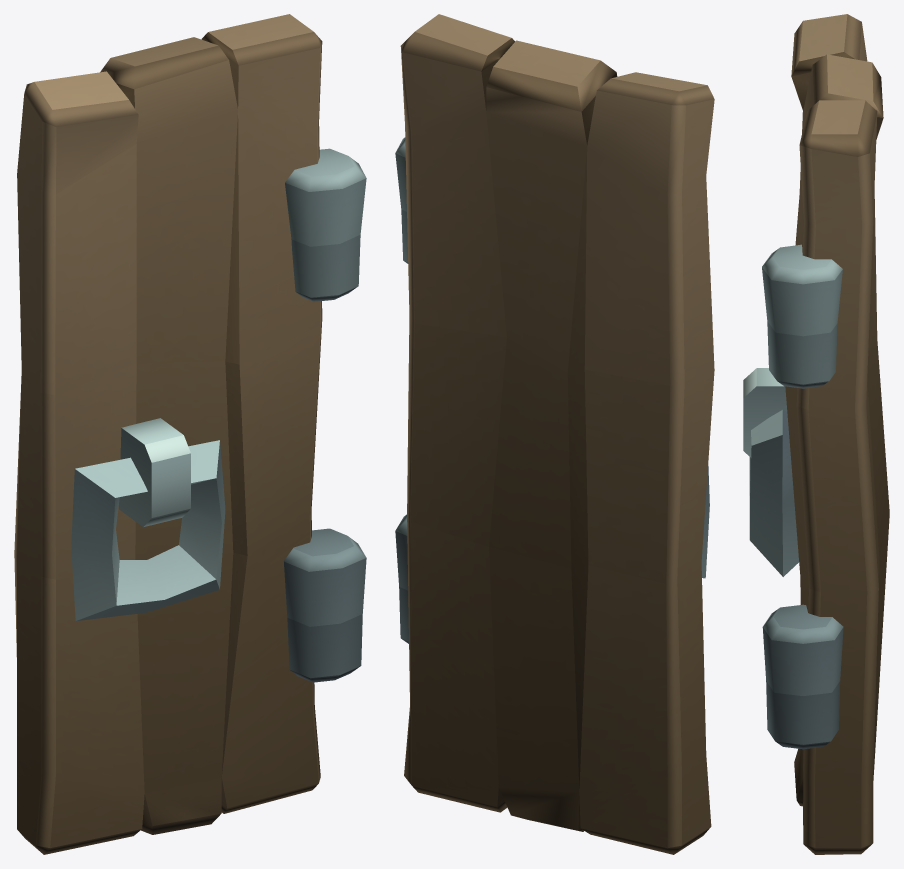
Rendered from door_small_right.fbx.
The picture shows the model from 3 angles, left to right: view 1: azimuth 30°, elevation 25°; view 2: azimuth 150°, elevation 25°; view 3: azimuth 270°, elevation 25°; orthographic projection. The views are drawn at different scales.
Parts seen in each view (by area): view 1: door_small_right; view 2: door_small_right; view 3: door_small_right.
Part boxes in pixels (x1,y1,x2,y2): door_small_right: (14,14,366,854); door_small_right: (395,14,714,854); door_small_right: (743,14,889,854).
Bounding box in the file's own units: 87.24 × 203 × 36.92.
